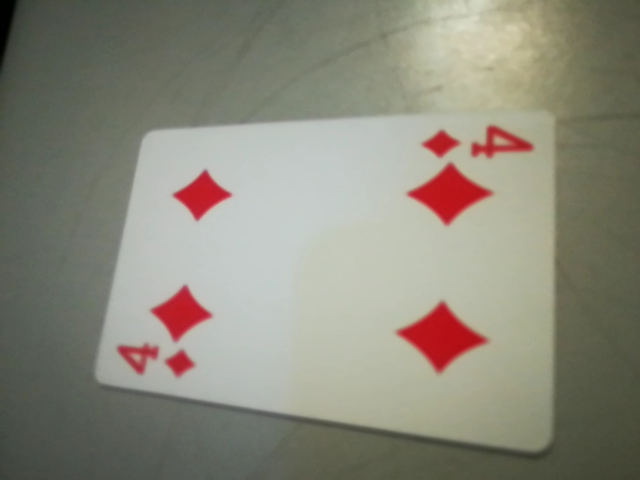fk 4: (411, 125, 538, 173)
